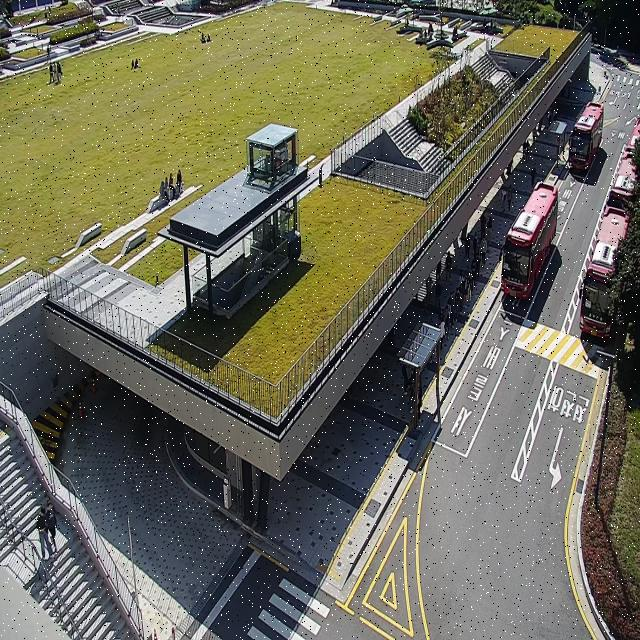queue: (414, 233, 488, 435)
